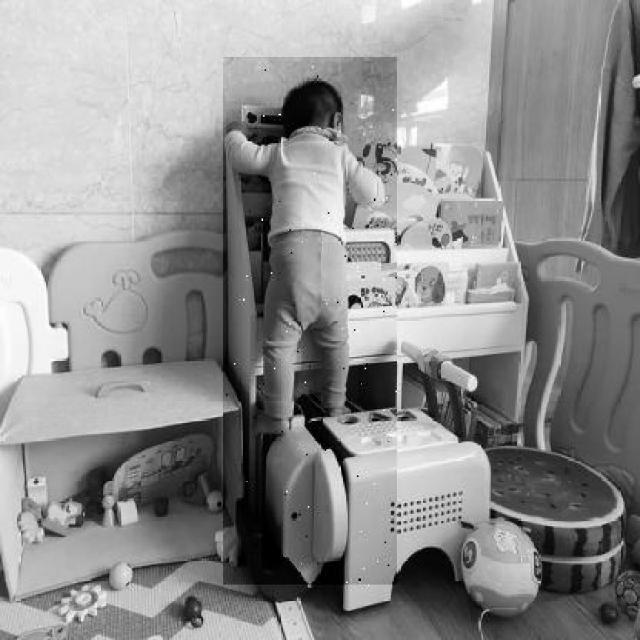child: (223, 58, 397, 587)
